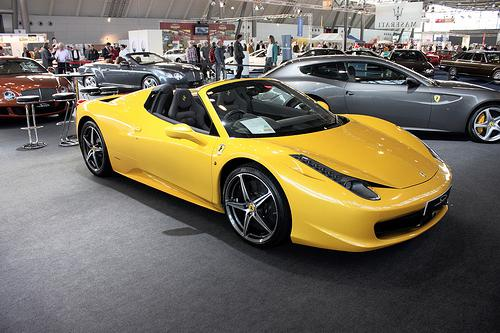Car: (53, 69, 457, 267), (239, 43, 500, 158), (62, 50, 212, 105), (1, 53, 74, 137)
